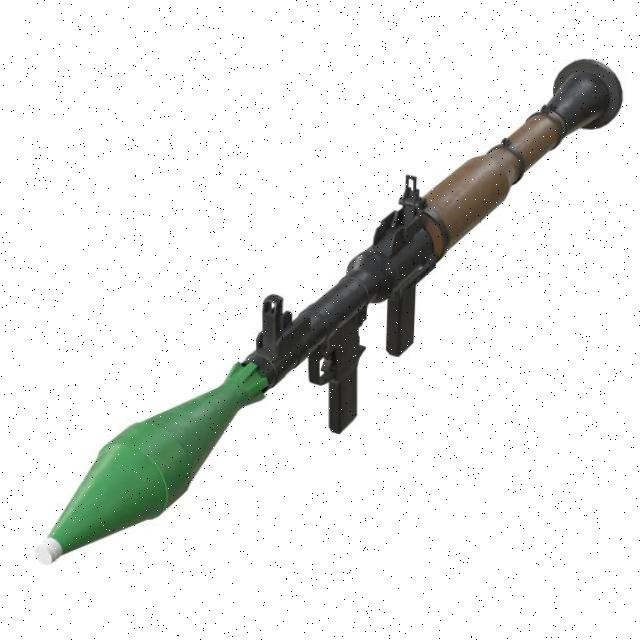bazooka: (24, 52, 628, 573)
